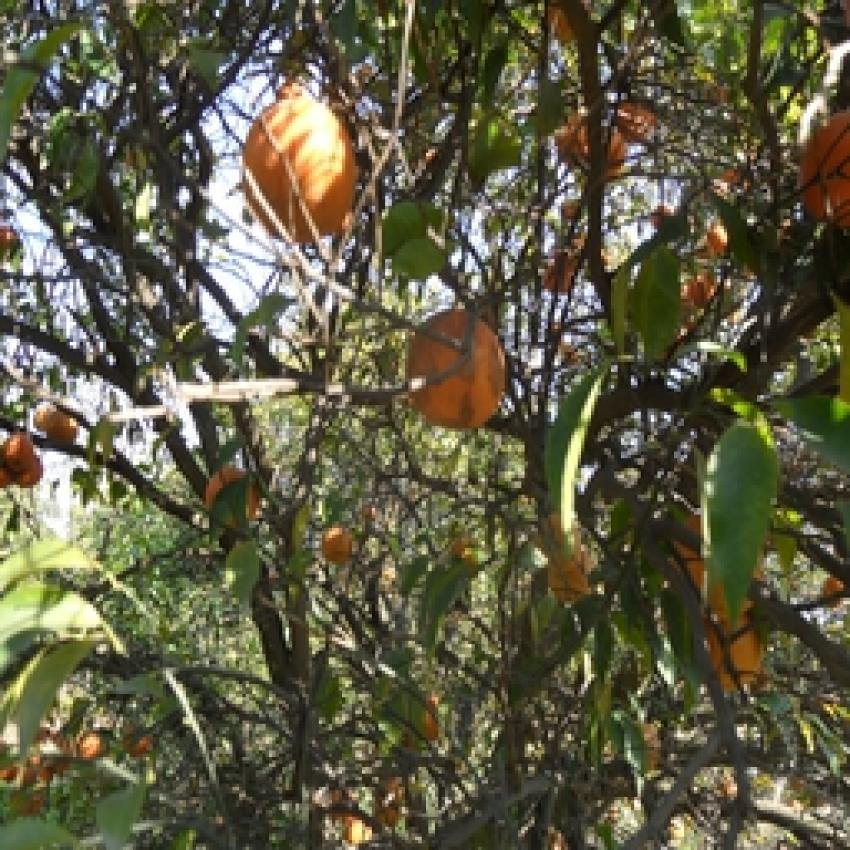Mal estado: (404, 306, 513, 444)
